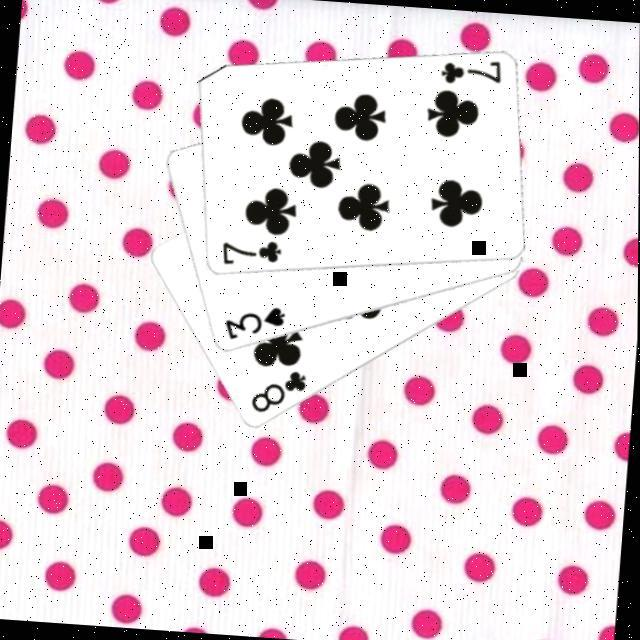3S: (222, 298, 290, 344)
7C: (438, 52, 507, 89), (219, 233, 286, 270)
8C: (249, 363, 312, 417)
